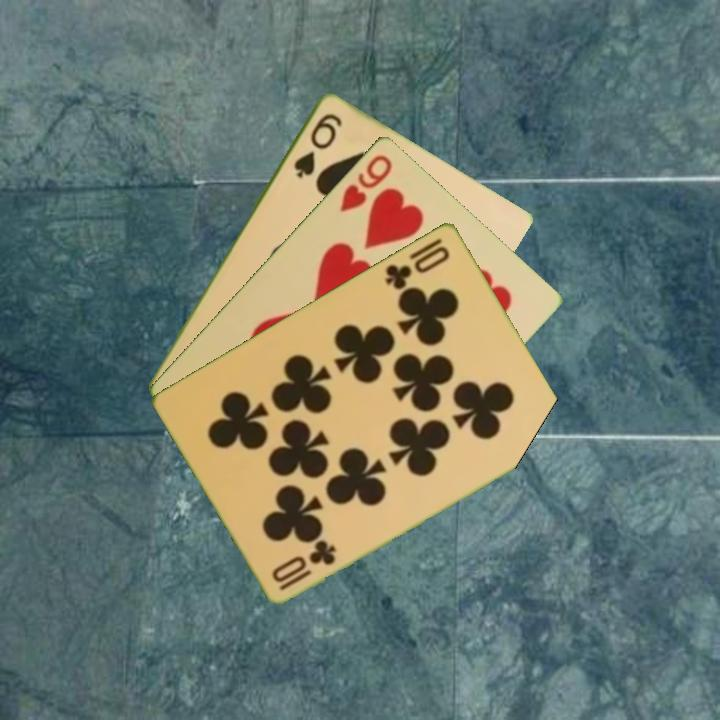10c: (381, 241, 453, 292), (276, 537, 339, 593)
6s: (289, 109, 345, 181)
9h: (336, 150, 396, 214)
